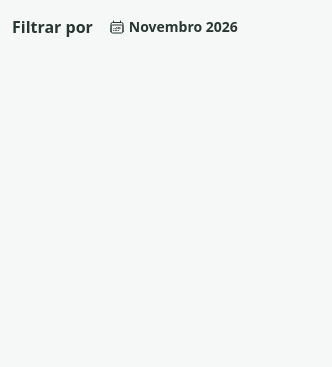
bloqueia a aplicação do ano inválido  e preserva o período
Later steps or results of the test are not shown.
Click the heading named "Mês e ano".
click(173, 26)  # box 101,12 -> 246,41
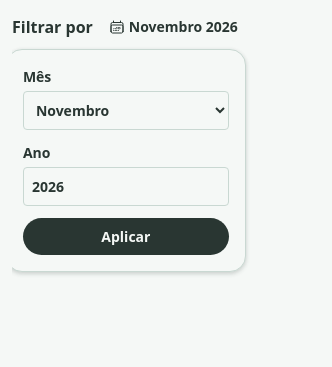
Clear the number field labelled "Ano" at (126, 186), box 23,167 -> 229,206
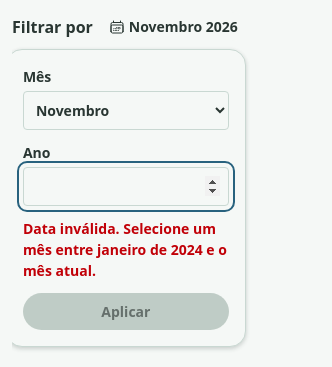
Result: the message shows "Data inválida" at 23,219 -> 227,280
Result: the message "Data inválida. Selecione um mês entre janeiro de 2024 e o mês atual." is shown at 23,218 -> 229,281
Result: the button "Aplicar" is disabled at 23,293 -> 229,330
